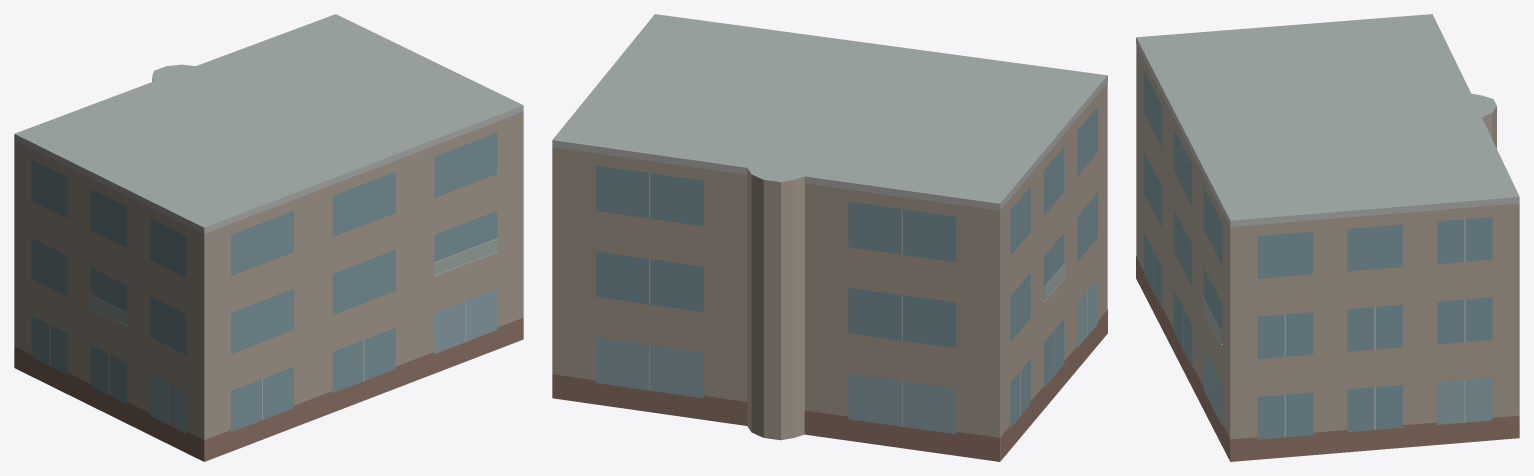
The model's file is survey-upis-32582109.glb.
3 renders of one model, left to right at view 1: azimuth 30°, elevation 25°; view 2: azimuth 150°, elevation 25°; view 3: azimuth 270°, elevation 25°, orthographic. The views are drawn at different scales.
Parts seen in each view (by area): view 1: survey-upis-32582109.tmp; view 2: survey-upis-32582109.tmp; view 3: survey-upis-32582109.tmp.
Boxes of the visible parts, x1,y1,x2,y2 form: survey-upis-32582109.tmp: [14, 14, 523, 461]; survey-upis-32582109.tmp: [552, 14, 1107, 461]; survey-upis-32582109.tmp: [1136, 14, 1519, 461].
Size of the model in its own units: 16.83 by 9.15 by 13.2.
